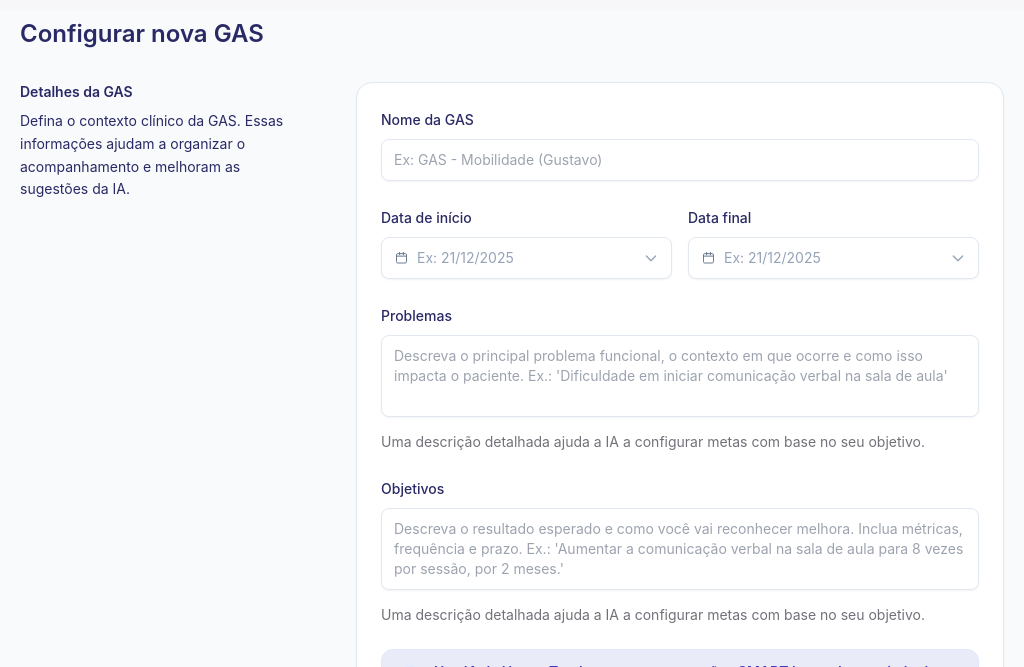
App - Integration Tests › 4. Validações Obrigatórias para Salvar GAS › deve validar Paciente (obrigatório)
// Preenche apenas Nome da GAS
Type "Minha GAS" into the field with placeholder "Ex: GAS - Mobilidade (Gustavo)" at coordinates (680, 160), box [381,139,979,181]
(page scrolled)
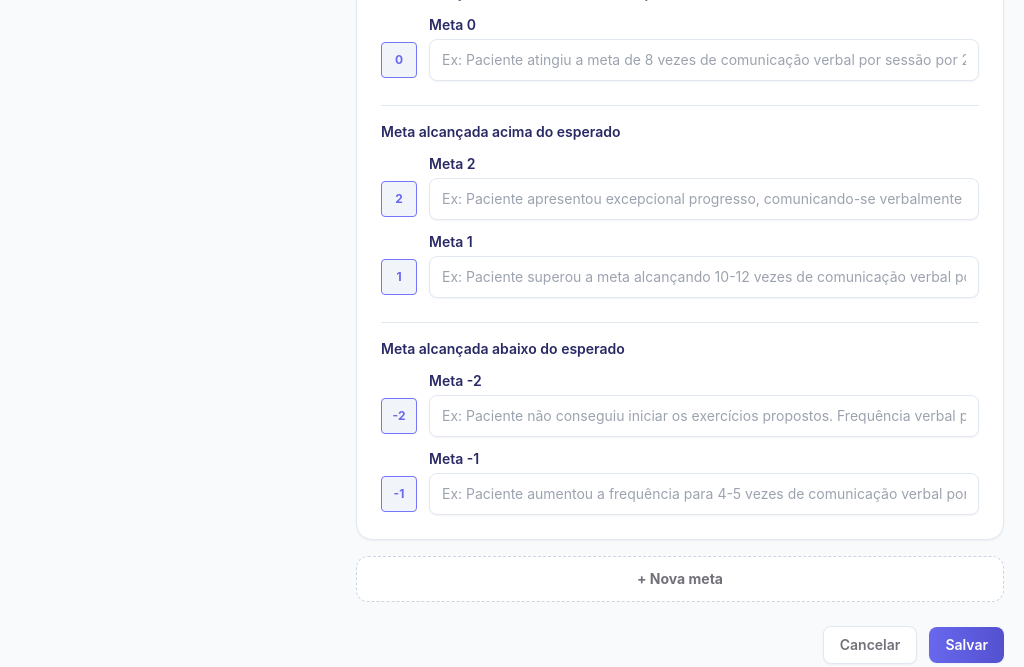
// Tenta salvar sem selecionar paciente
Click the button "Salvar" at coordinates (967, 645), box [929,627,1004,663]
(page scrolled)
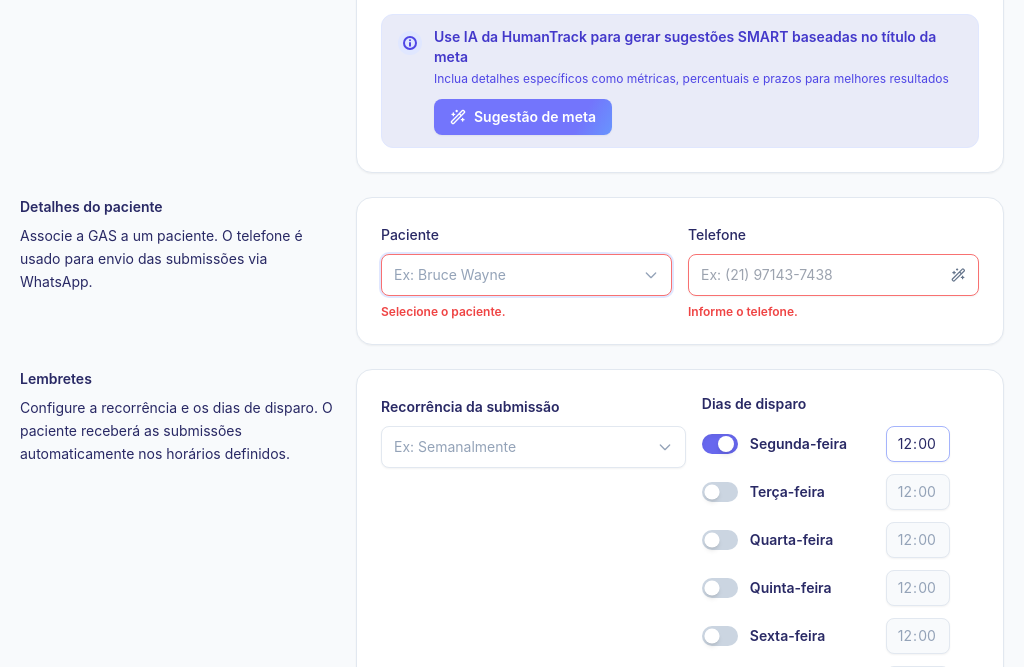
Expected: the text "Selecione o paciente." is shown, [381,304,506,319]
